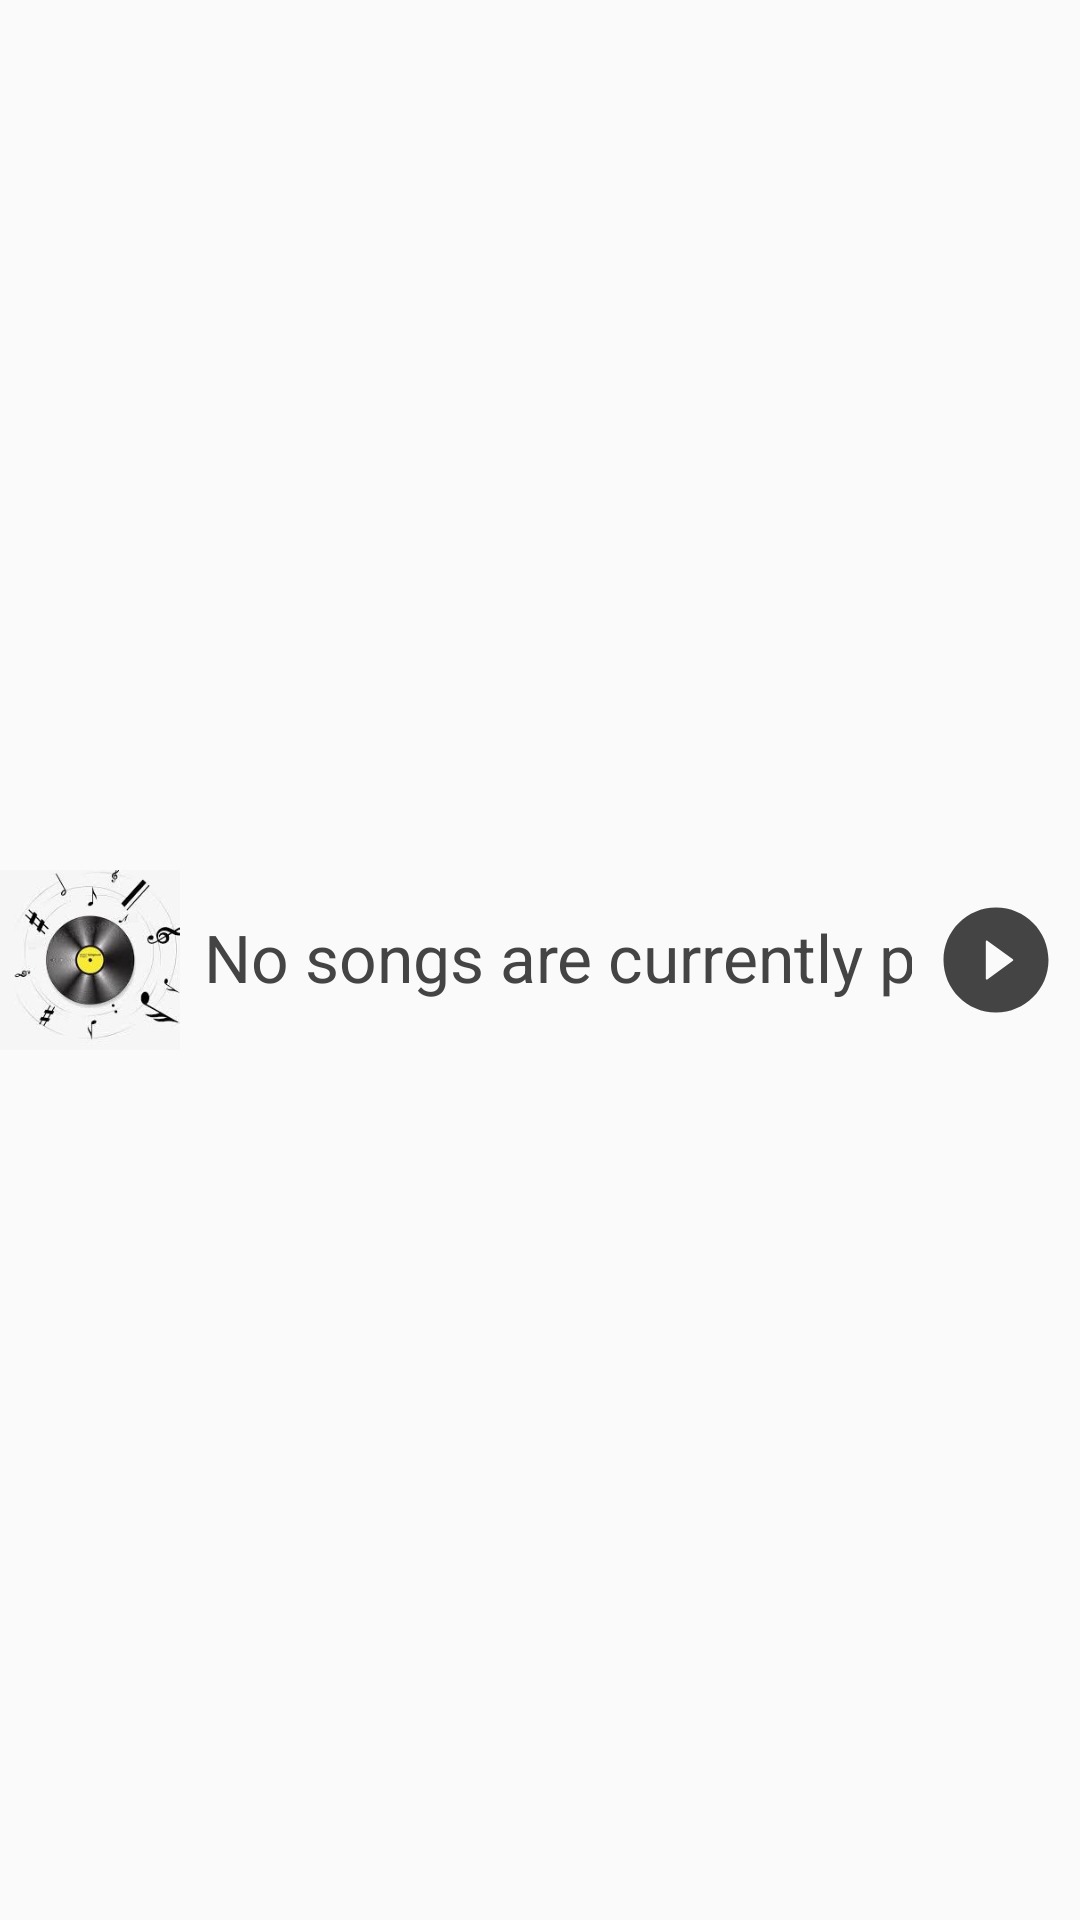

Screen size 1080x1920. Icon name, then its box in pixels as (x1=x1, y1=y1, x2=x2, y2=y2):
Pic: (x1=14, y1=870, x2=180, y2=1040)
